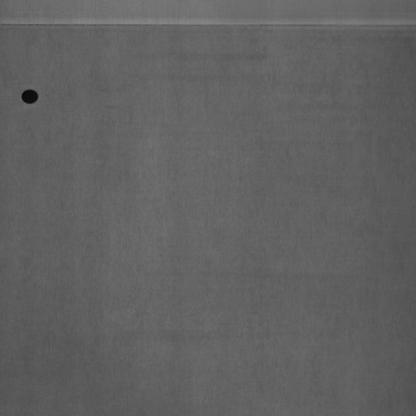punching_hole: (19, 84, 41, 108)
welding_line: (1, 13, 414, 37)
